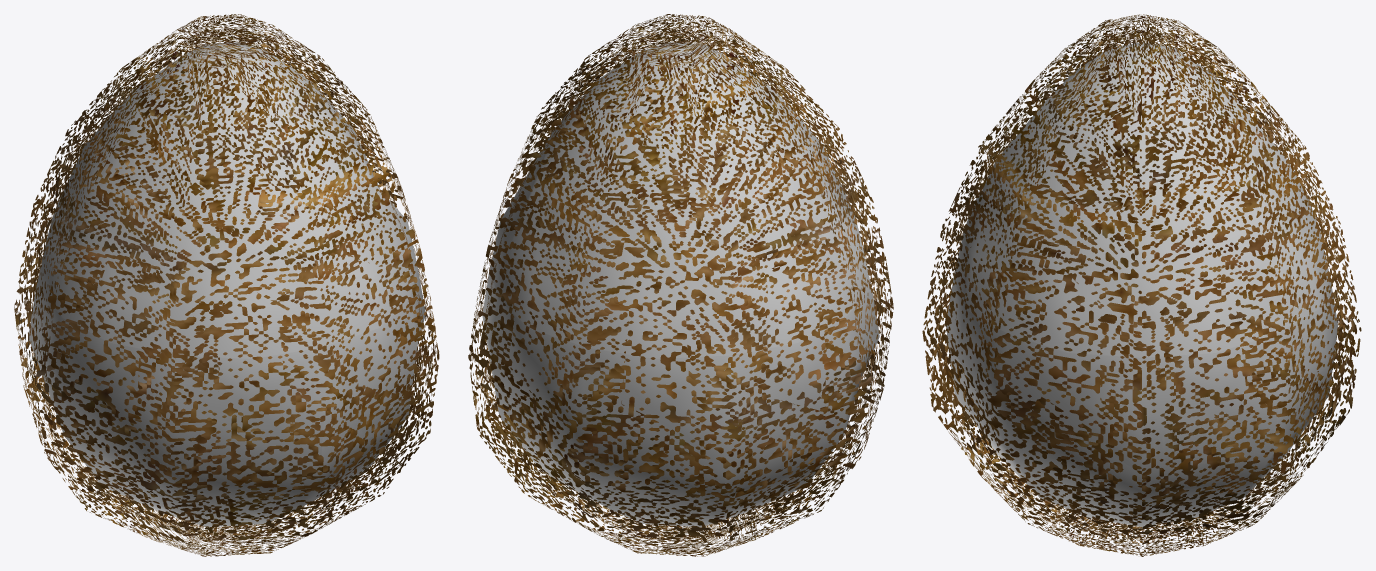
File: Coconut_.FBX
3 views of the same model, side by side, from view 1: azimuth 30°, elevation 25°; view 2: azimuth 150°, elevation 25°; view 3: azimuth 270°, elevation 25° (orthographic).
Parts seen in each view (by area): view 1: coconut, Broken_coconut, Broken_coconut_bottom; view 2: coconut, Broken_coconut, Broken_coconut_bottom; view 3: Broken_coconut, coconut, Broken_coconut_bottom.
Boxes of the visible parts, left/top/right/bottom form: coconut: left=14, top=14, right=439, bottom=556; Broken_coconut: left=23, top=14, right=427, bottom=363; Broken_coconut_bottom: left=14, top=239, right=439, bottom=556; coconut: left=468, top=14, right=893, bottom=556; Broken_coconut: left=480, top=14, right=883, bottom=364; Broken_coconut_bottom: left=469, top=237, right=893, bottom=556; Broken_coconut: left=931, top=15, right=1352, bottom=366; coconut: left=922, top=14, right=1361, bottom=556; Broken_coconut_bottom: left=927, top=250, right=1360, bottom=555.
Size of the model in its own units: 9.89 by 12.81 by 9.89.
